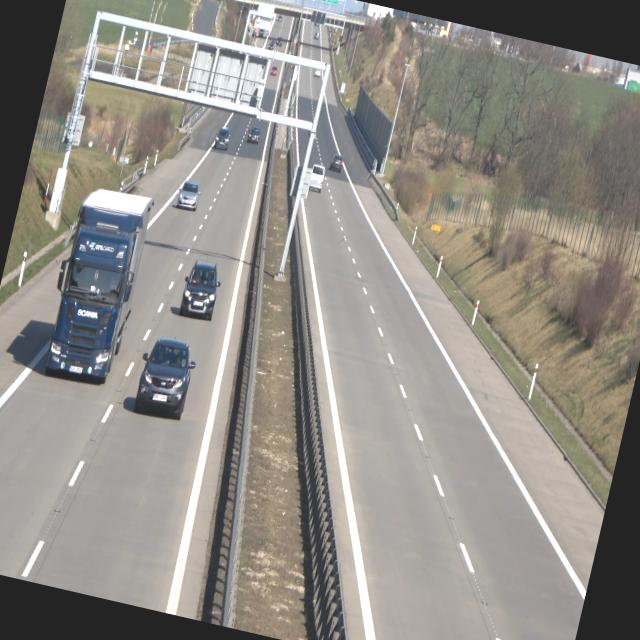Vehicle: (40, 182, 155, 388), (130, 334, 200, 422), (176, 255, 226, 322), (175, 177, 203, 213), (306, 163, 328, 194), (212, 125, 232, 152), (327, 152, 345, 174), (245, 124, 262, 146)
